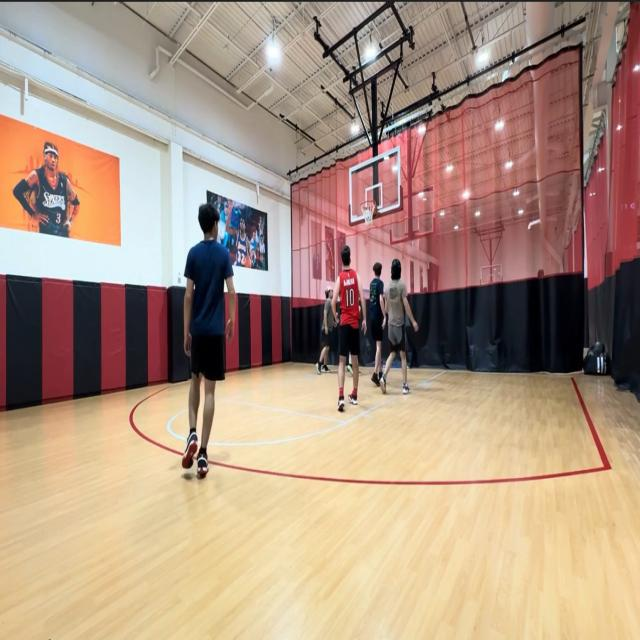Basketball Rim: (360, 199, 376, 224)
Player: (182, 202, 236, 477), (331, 245, 367, 411), (380, 259, 419, 396), (369, 262, 386, 386), (316, 286, 333, 376)
